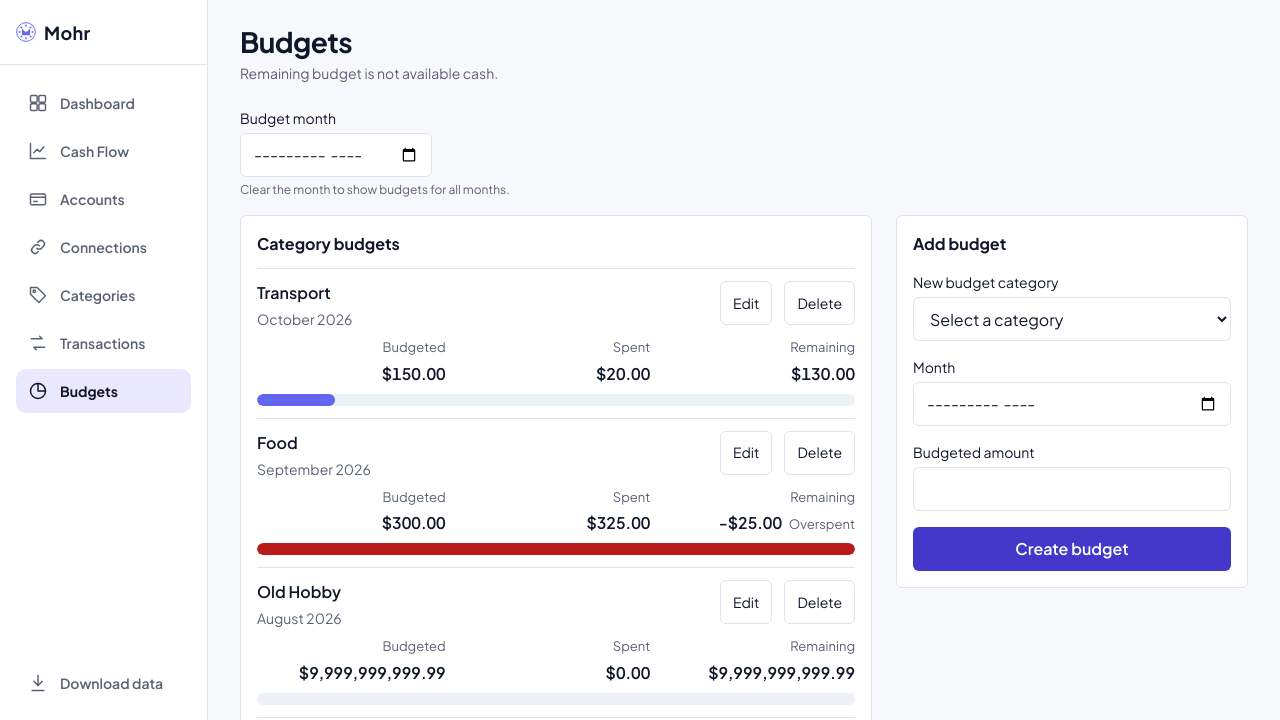
Test case: budget month filter › filters loaded budgets by exact month, shows a friendly empty state, and restores all months on clear with no requests
The image size is (1280, 720).
Expected: the number of list items is 3, [257,269,855,418]; [257,418,855,568]; [257,568,855,718]
Expected: the text "Clear the month to show budgets for all months." is shown, [240,182,510,197]
In the field labelled "Budget month": (336, 155) [240,133,432,177], type "2026-09"
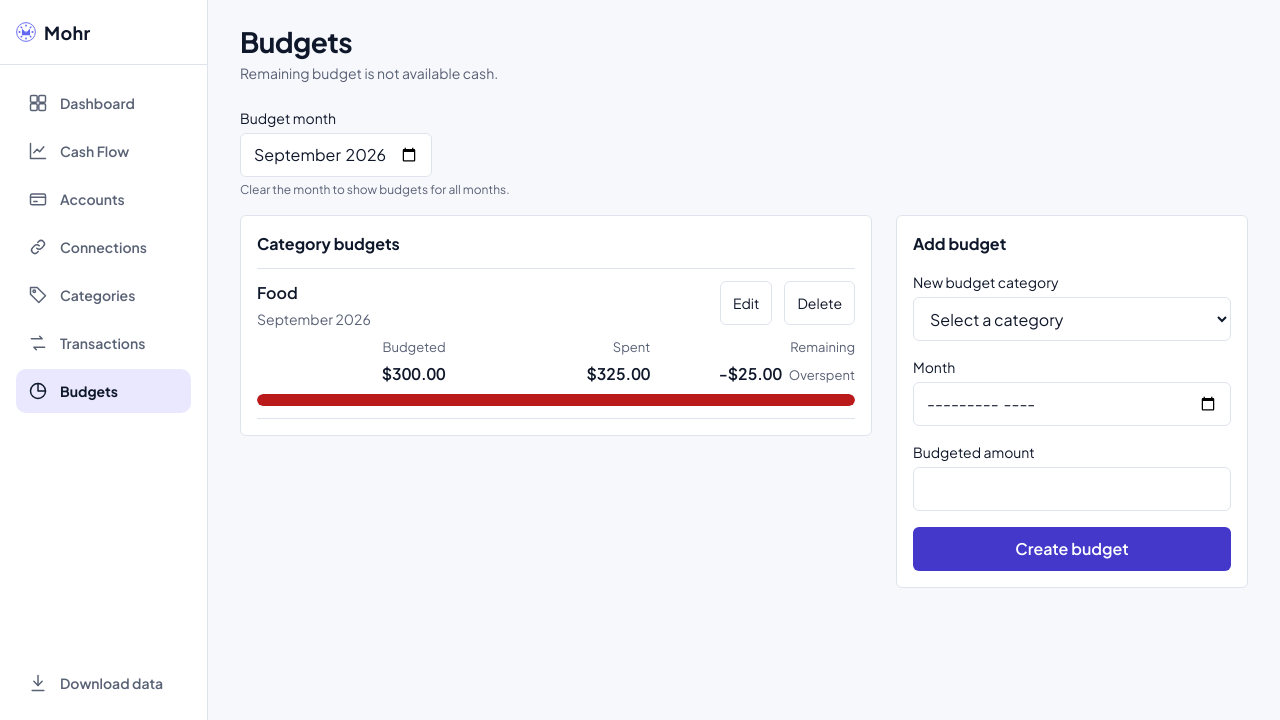
Result: the number of list items is 1 at [257,269,855,418]
Result: the text "October 2026" is gone
Result: the text "August 2026" is gone
Replace the text in the field labelled "Budget month" with "2026-12": (336, 155) [240,133,432,177]
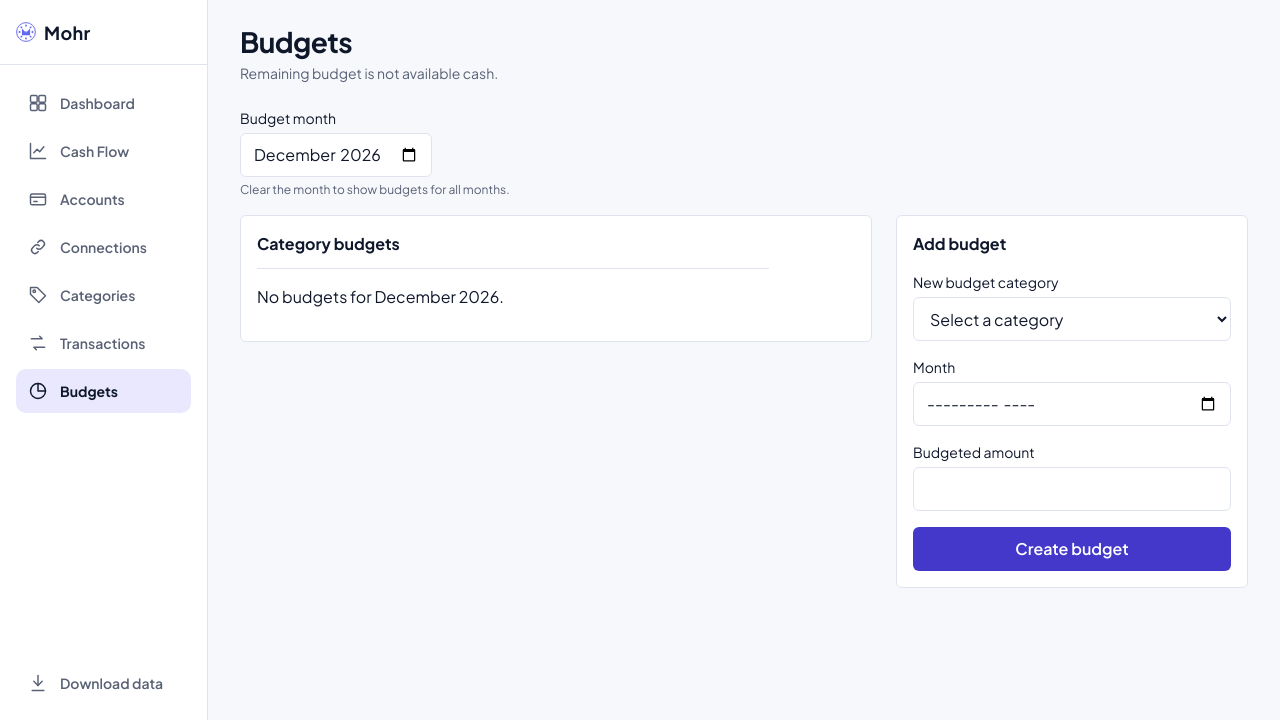
Result: the text "No budgets for December 2026." is shown at [257,268,769,309]
Result: the list item is gone
Clear the field labelled "Budget month": (336, 155) [240,133,432,177]
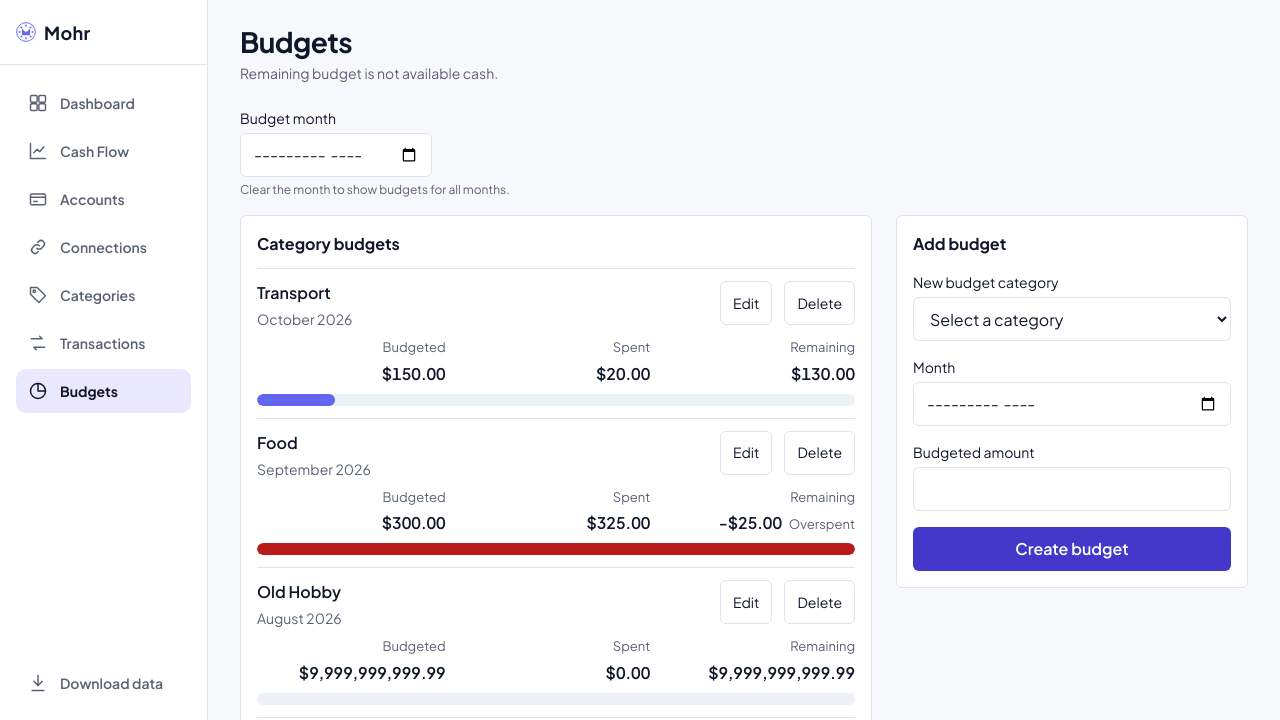
Result: the number of list items is 3 at [257,269,855,418]; [257,418,855,568]; [257,568,855,718]
Result: the text "October 2026" is shown at [257,310,352,328]
Result: the text "September 2026" is shown at [257,460,371,478]
